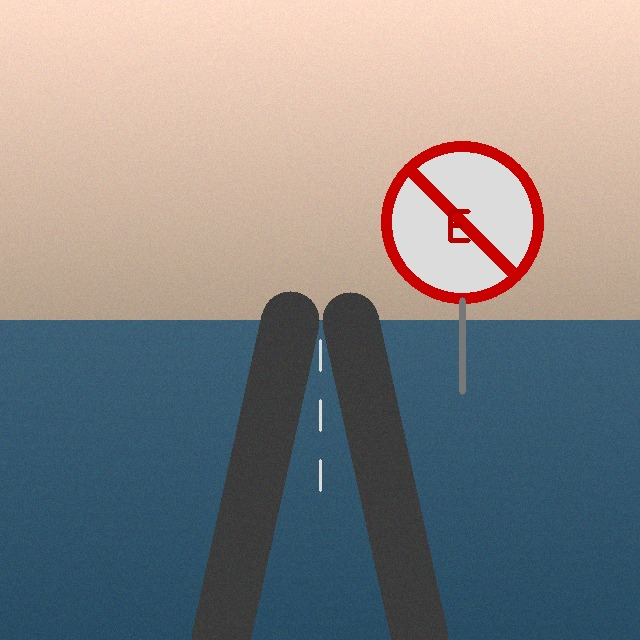no_estacionar: (384, 144, 540, 300)
